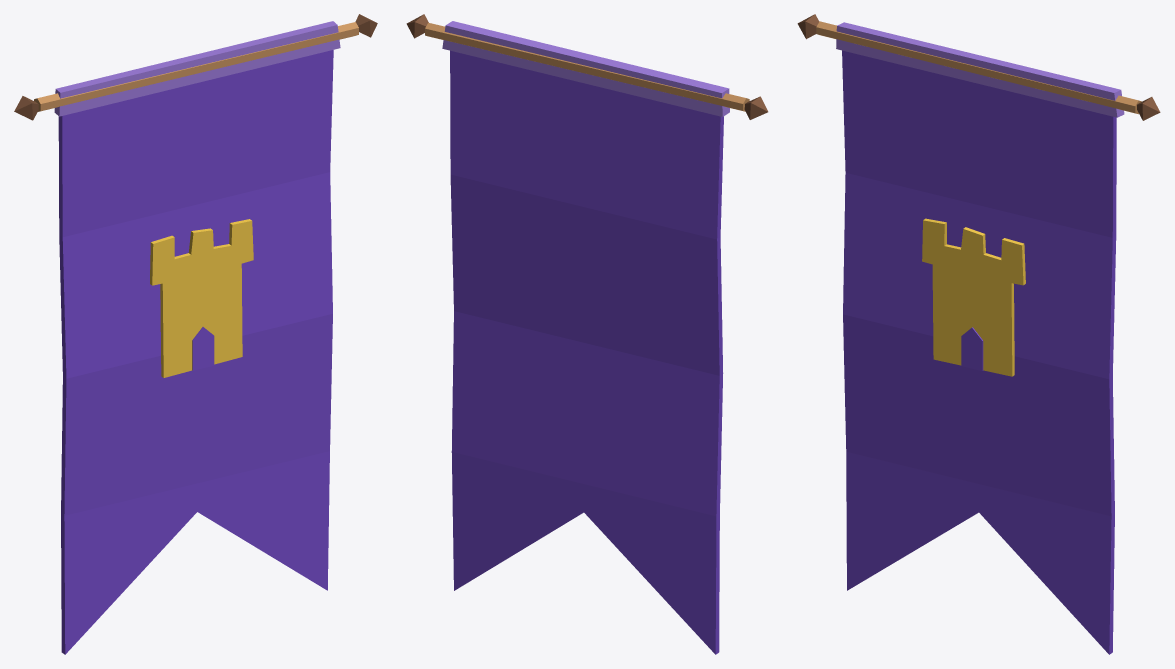
Rendered from banner.fbx.
The picture shows the model from 3 angles, left to right: view 1: azimuth 30°, elevation 25°; view 2: azimuth 150°, elevation 25°; view 3: azimuth 330°, elevation 25°; orthographic projection.
Visible parts, largest first — view 1: banner; view 2: banner; view 3: banner.
Boxes of the visible parts, x1=… form: banner: x1=14, y1=14, x2=377, y2=654; banner: x1=406, y1=14, x2=768, y2=654; banner: x1=797, y1=14, x2=1160, y2=654.
Bounding box in the file's own units: 1.2 × 1.79 × 0.0709.
